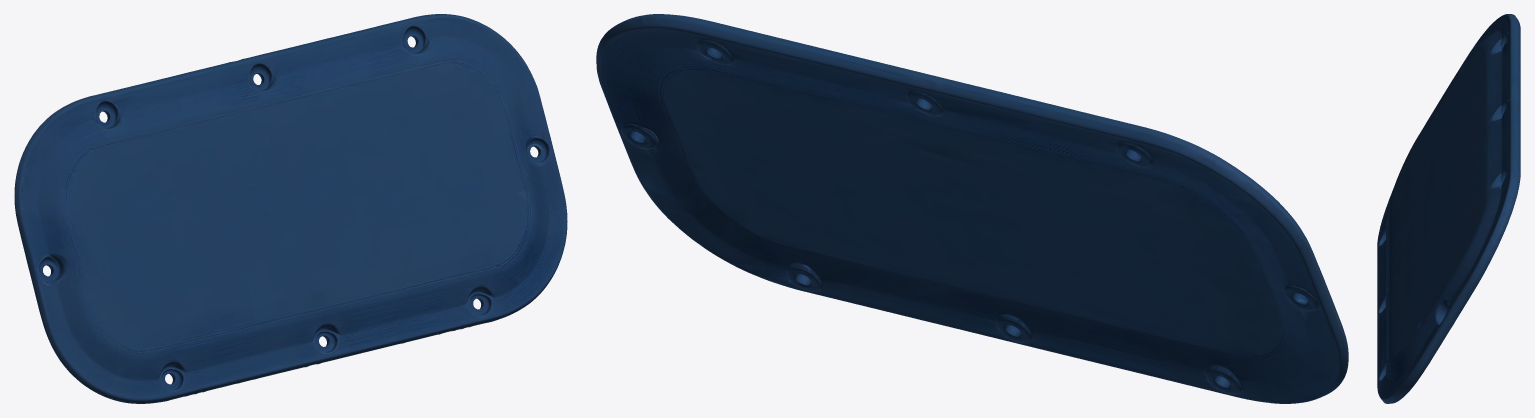
The model's file is case-3.glb.
The picture shows the model from 3 angles, left to right: view 1: azimuth 30°, elevation 25°; view 2: azimuth 150°, elevation 25°; view 3: azimuth 270°, elevation 25°; orthographic projection. The views are drawn at different scales.
Parts seen in each view (by area): view 1: node_0; view 2: node_0; view 3: node_0.
Boxes of the visible parts, left/top/right/bottom form: node_0: left=14, top=14, right=567, bottom=403; node_0: left=596, top=14, right=1348, bottom=403; node_0: left=1377, top=14, right=1520, bottom=403.
Size of the model in its own units: 1.18 by 0.5395 by 0.3124.
Materials: 1 (1 with a texture image).
